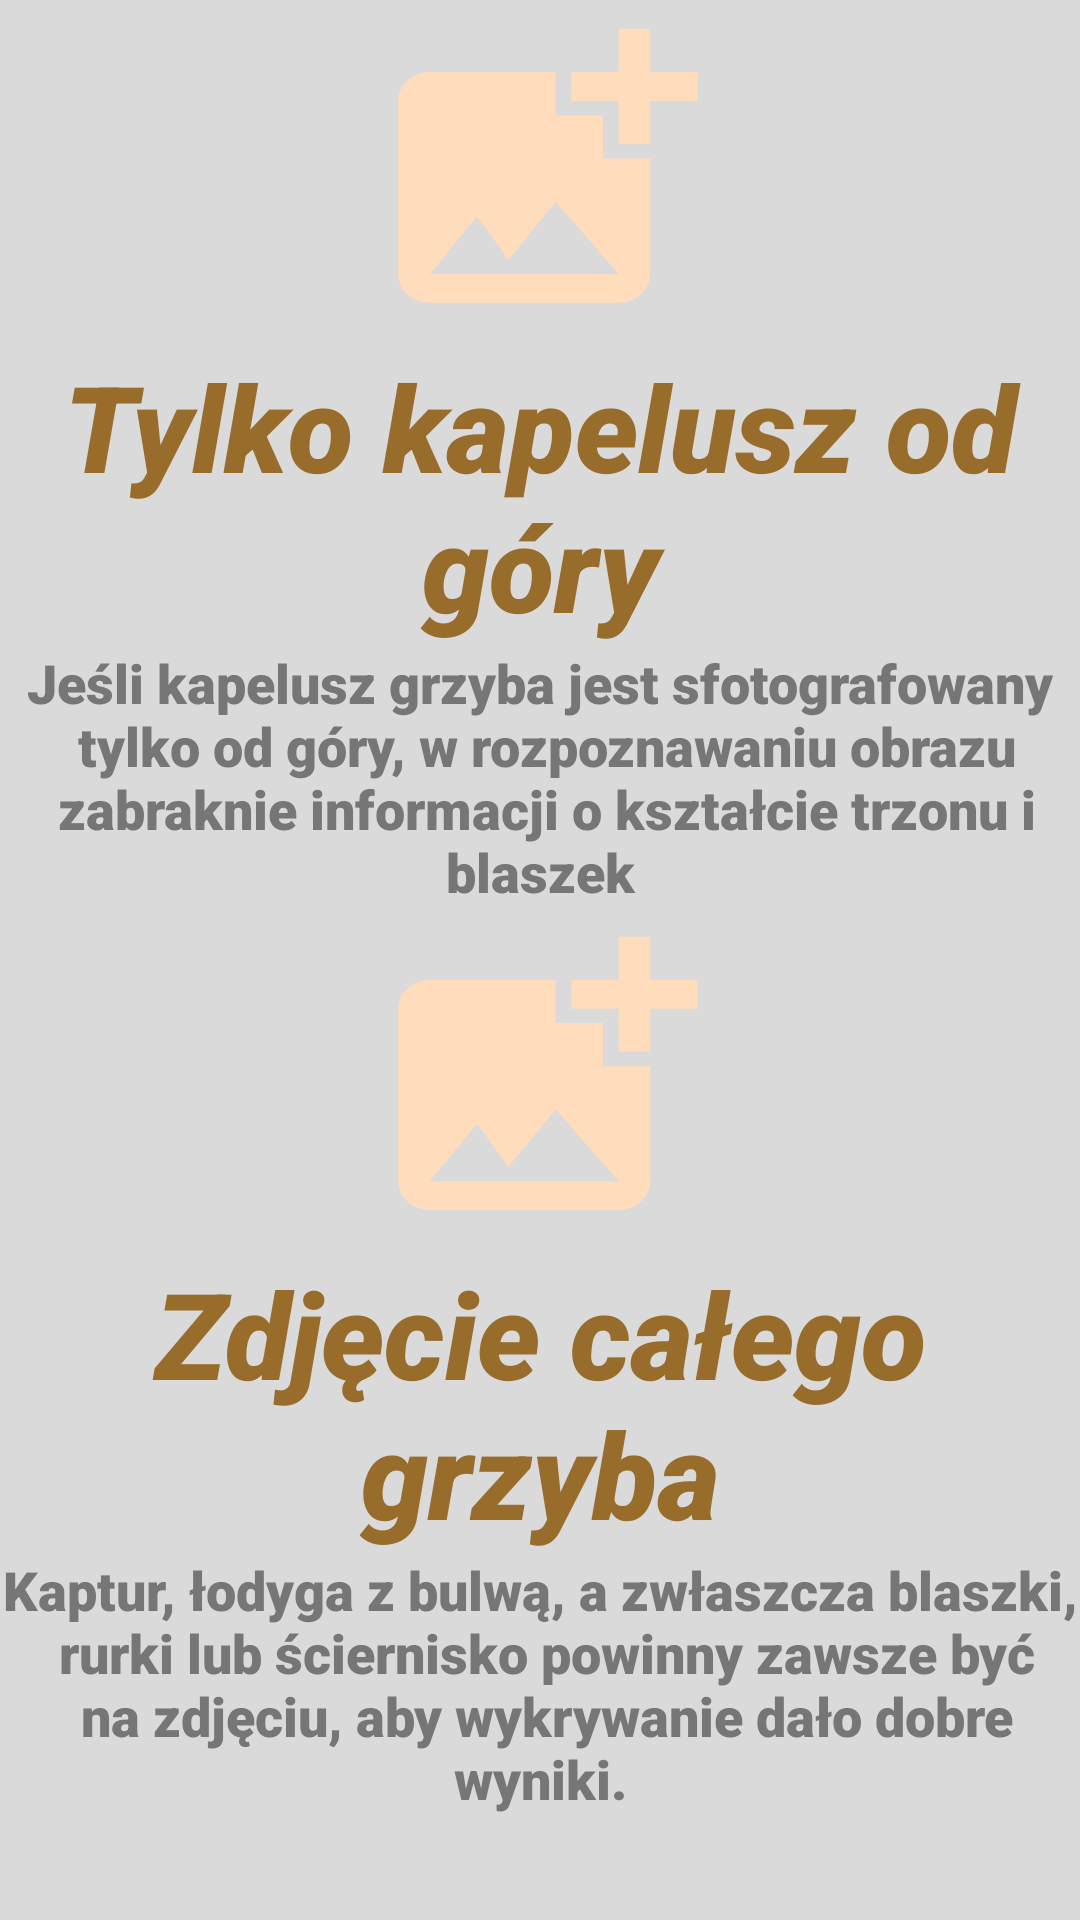

Icons on this 1080 x 1920 Android screen, each with the point to tap as point (x, y):
add photo: point (547, 166), point (547, 1073)
